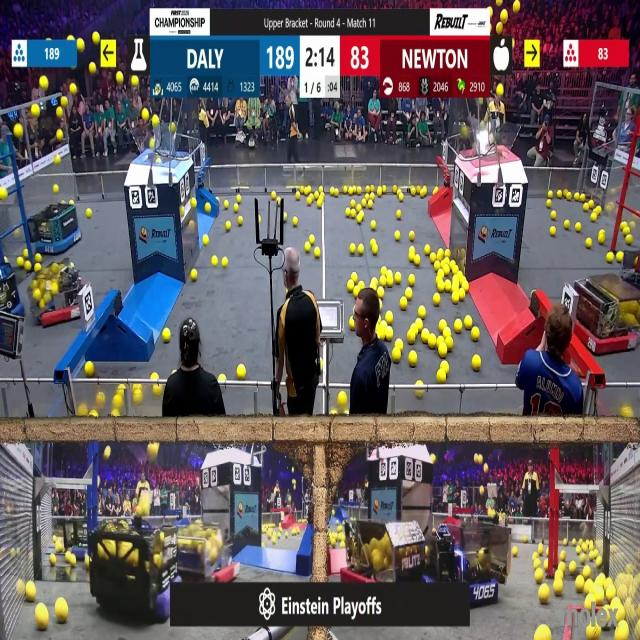ball_airborne: (137, 496, 150, 516), (147, 444, 158, 461), (12, 125, 22, 139), (31, 104, 40, 118), (40, 76, 48, 90), (38, 74, 46, 88), (115, 72, 123, 84), (132, 75, 140, 87), (0, 186, 7, 199), (76, 40, 84, 51), (93, 33, 101, 44), (497, 85, 503, 98), (151, 115, 158, 126), (461, 127, 468, 138), (58, 130, 64, 142), (515, 0, 521, 12), (500, 10, 507, 20), (473, 454, 480, 464), (70, 85, 76, 96), (142, 109, 148, 120), (496, 24, 502, 35), (91, 63, 97, 74), (58, 107, 64, 118), (105, 448, 111, 459), (62, 98, 68, 108), (149, 139, 155, 148), (171, 125, 176, 134), (56, 157, 61, 165), (500, 104, 504, 113), (481, 487, 485, 496), (496, 0, 502, 6), (485, 463, 489, 472), (481, 119, 485, 127)
ball_ground: (36, 606, 49, 631), (27, 583, 37, 602), (471, 355, 480, 371), (86, 361, 95, 376), (555, 582, 564, 597), (237, 364, 246, 378), (164, 330, 172, 344), (410, 352, 418, 366), (575, 579, 583, 593), (535, 568, 543, 582), (409, 332, 417, 346), (454, 320, 463, 332), (439, 345, 448, 357), (464, 316, 472, 329), (438, 370, 446, 383), (470, 327, 478, 340), (585, 581, 593, 594), (77, 407, 86, 418), (392, 350, 400, 362), (418, 306, 426, 318), (606, 588, 614, 600), (568, 561, 576, 573), (113, 395, 121, 407), (386, 327, 393, 340), (399, 298, 406, 311), (442, 359, 449, 372), (386, 312, 393, 324), (416, 389, 424, 399), (452, 292, 460, 302), (598, 232, 604, 245), (25, 262, 32, 273), (584, 566, 591, 577), (409, 275, 416, 286), (190, 270, 196, 282), (433, 292, 439, 304), (440, 320, 448, 329), (395, 273, 401, 285), (586, 598, 592, 610), (49, 554, 55, 566), (606, 252, 613, 262), (370, 278, 377, 288), (415, 319, 422, 329), (204, 236, 210, 247), (618, 251, 624, 262), (407, 288, 413, 299), (358, 244, 364, 255), (315, 247, 321, 258), (348, 281, 354, 292), (372, 244, 378, 255), (414, 255, 421, 264), (574, 221, 580, 231), (424, 245, 430, 255), (379, 288, 385, 298), (212, 256, 218, 266), (304, 242, 310, 252), (460, 290, 465, 302), (388, 276, 393, 287), (224, 221, 230, 230), (586, 239, 592, 248), (560, 552, 566, 561), (564, 219, 570, 228), (433, 263, 439, 272), (352, 273, 358, 282), (87, 209, 93, 218), (513, 546, 519, 555), (36, 264, 42, 273), (410, 232, 415, 242), (395, 232, 400, 242), (410, 247, 415, 257), (371, 220, 376, 229), (381, 277, 386, 286), (542, 560, 547, 569), (396, 210, 401, 219), (92, 412, 99, 418), (350, 200, 356, 207), (367, 202, 372, 210), (361, 199, 366, 207), (346, 209, 351, 217), (213, 259, 218, 267), (545, 200, 550, 208), (272, 191, 277, 199), (524, 535, 528, 543), (552, 212, 556, 220), (307, 197, 311, 205), (370, 193, 375, 199), (592, 214, 596, 221), (235, 205, 239, 212), (223, 202, 227, 208), (552, 227, 556, 233)
goal: (466, 120, 520, 159)
robot_blue: (86, 513, 185, 623), (430, 516, 512, 607), (35, 201, 84, 253), (390, 520, 430, 578), (66, 522, 90, 555)
robot_red: (577, 278, 640, 358), (177, 520, 241, 584), (33, 261, 87, 328), (342, 520, 392, 584)
